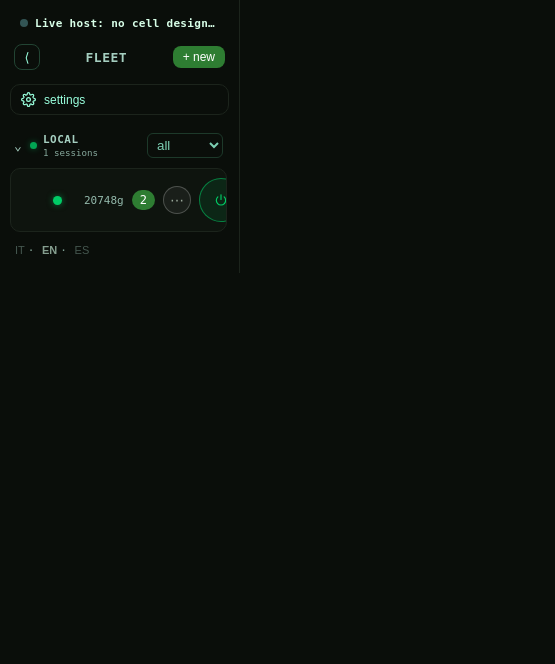
Nuvola al passaggio sul pallino › uscendo dal pallino chiude dopo il tempo di grazia; entrando nella nuvola si resta
Step 1. Hover over the button with class "nc-side-peek" → (58, 200), box 47,192 -> 68,208
Wait 310 ms
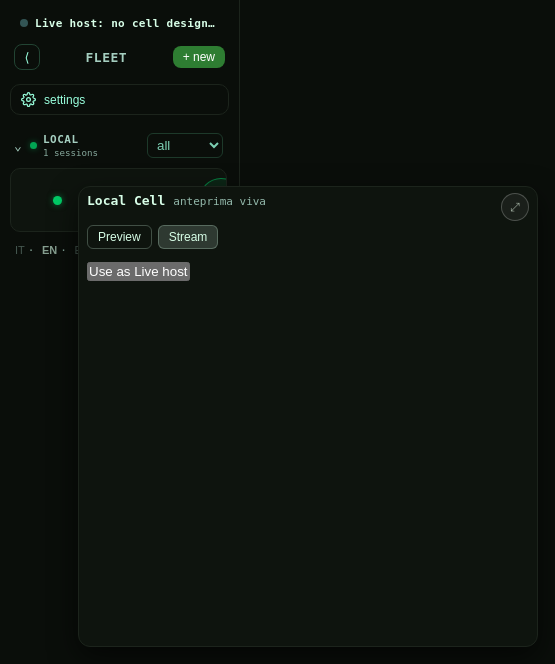
Step 2. Move the pointer off the button with class "nc-side-peek", box 47,192 -> 68,208
Result: the element with test id "peek-cloud" is shown
Step 3. Hover over the element with test id "peek-cloud" → (308, 416), box 78,186 -> 538,647
Result: the element with test id "peek-cloud" is shown
Step 4. Move the pointer off the element with test id "peek-cloud", box 78,186 -> 538,647
Wait 160 ms
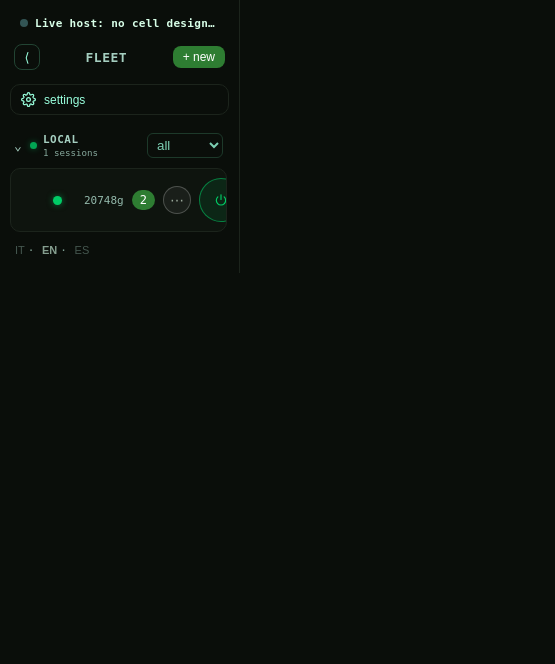
Result: the element with test id "peek-cloud" is gone
